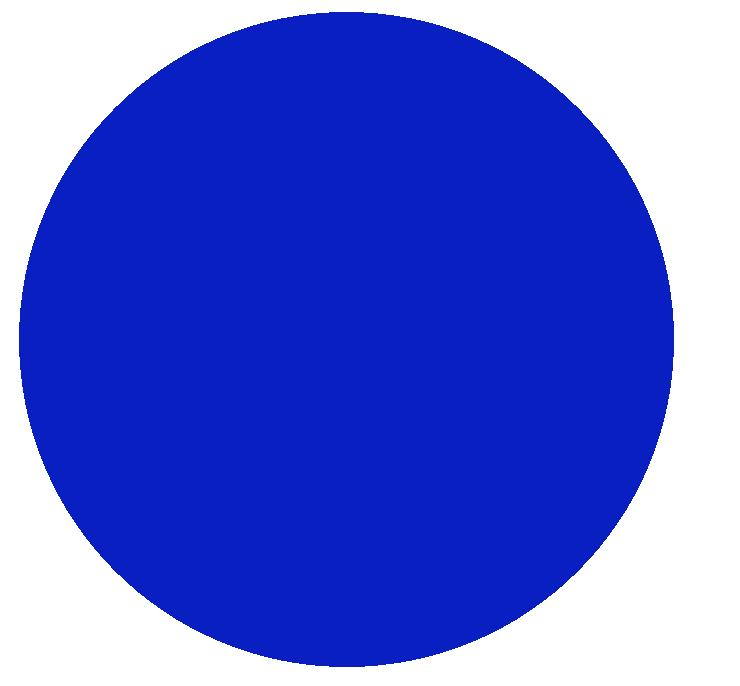blue_circle: (5, 0, 715, 677)
